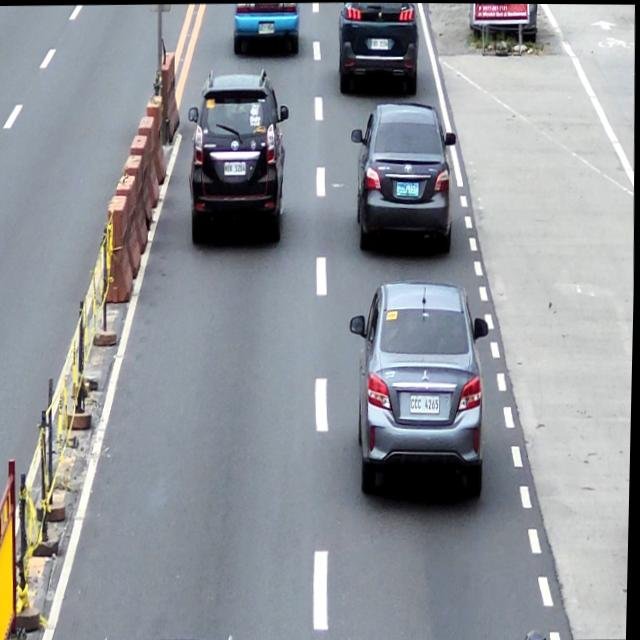Car: (348, 280, 494, 500), (185, 68, 291, 246), (349, 101, 459, 256), (336, 2, 419, 91), (232, 2, 301, 55)
License-Plate: (411, 393, 441, 413), (224, 159, 246, 176), (397, 180, 419, 196), (257, 21, 275, 35), (370, 37, 389, 50)
